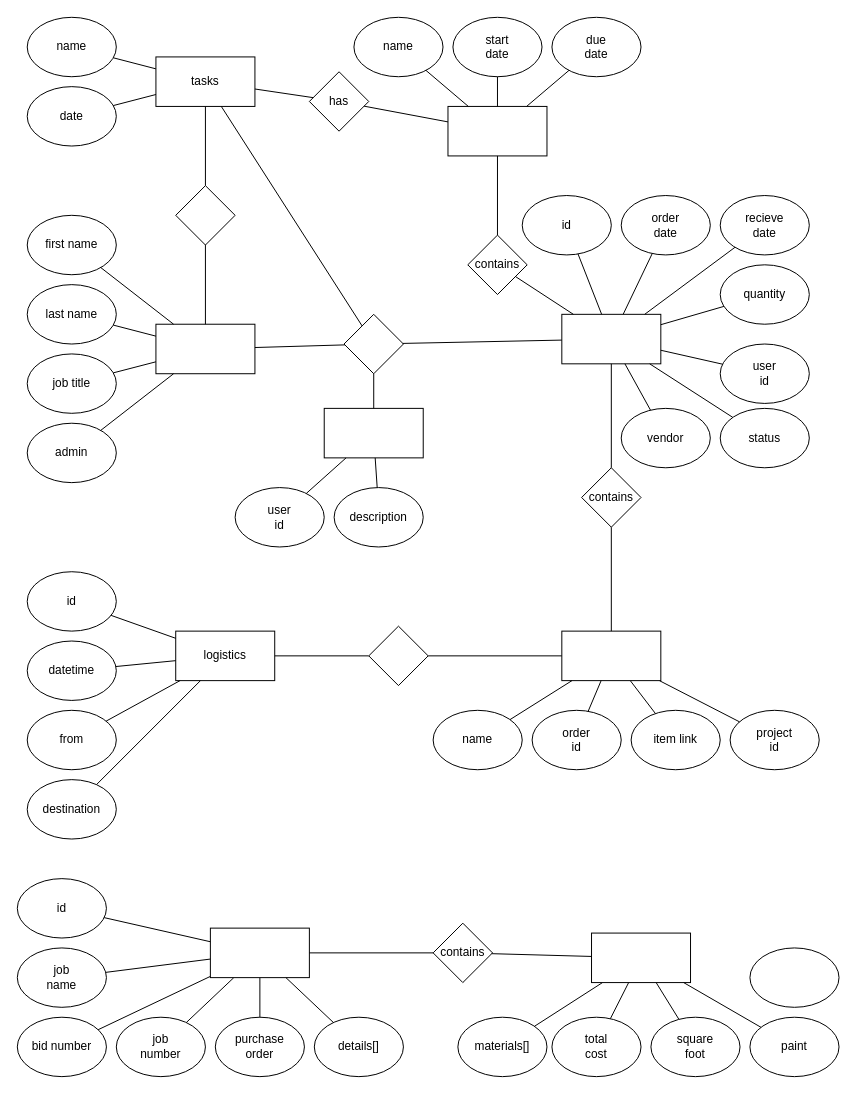
Some shapes in this 856 by 1094 pixel diagram are drawn without their labels. Here are the shapes that lost their labels. From the top down, the centre of each, then its label:
[497,130]: projects
[205,215]: assigned
[205,348]: users
[373,343]: make
[611,338]: orders
[373,432]: comment
[398,655]: moves
[611,655]: items
[259,952]: Estimates
[641,957]: Details
[794,977]: task[]
